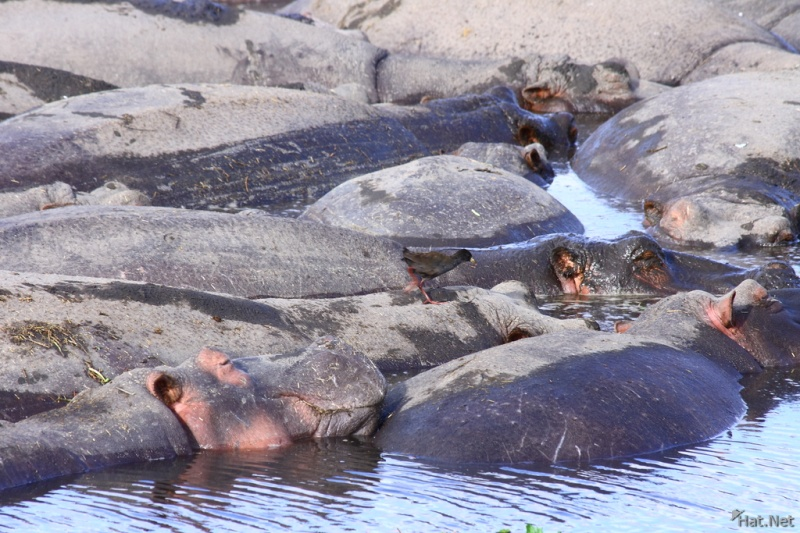hipopotamo: (6, 342, 391, 472)
